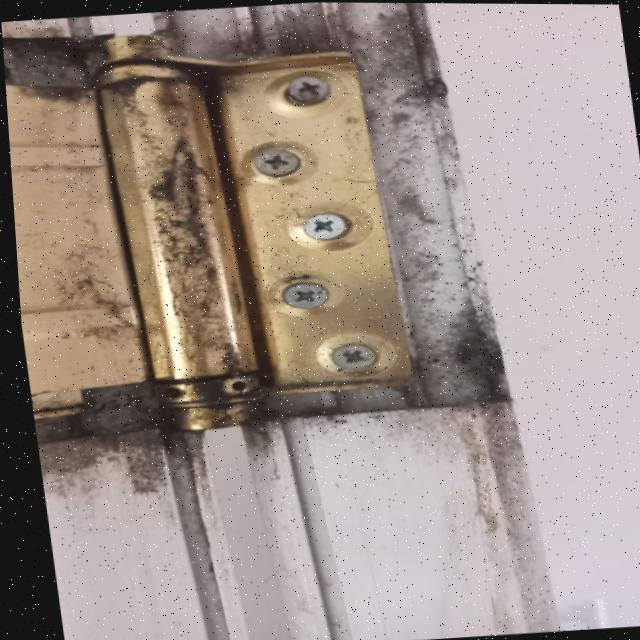Phillips: (313, 333, 402, 380), (243, 144, 321, 189), (271, 69, 344, 112), (262, 277, 343, 315), (299, 204, 361, 247)
